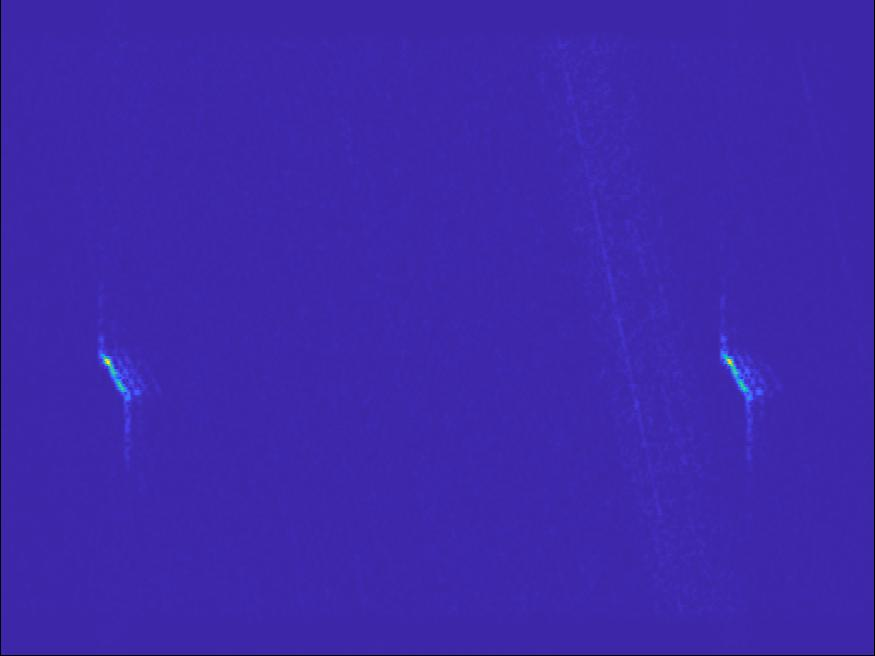Interference: (303, 232, 520, 375), (31, 556, 123, 608), (777, 298, 855, 355), (317, 324, 384, 385)
